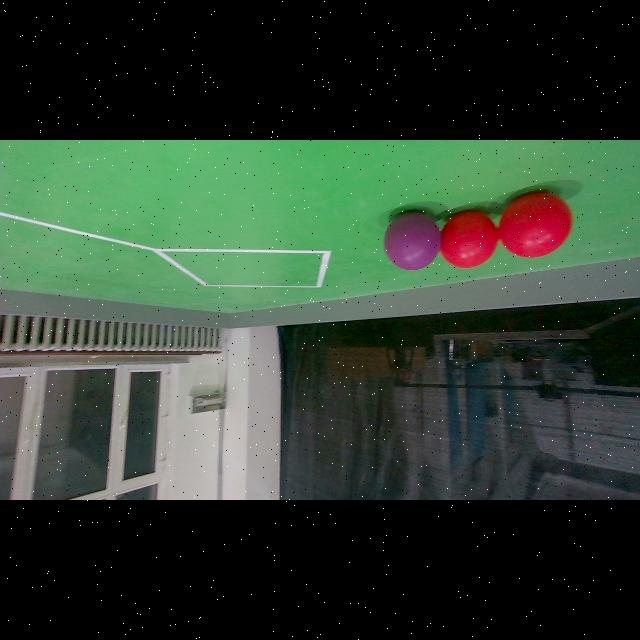P: (384, 212, 440, 270)
R: (500, 192, 572, 258), (439, 210, 498, 268)
